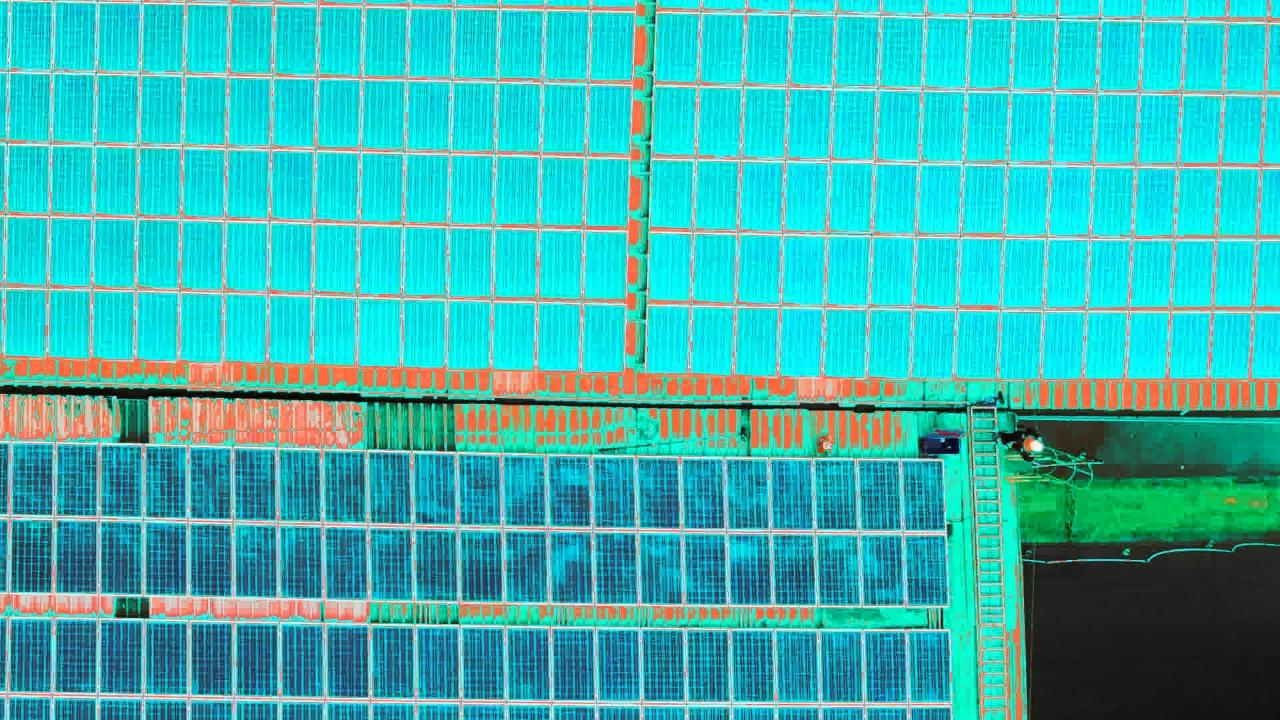dirty: (646, 4, 1280, 380), (4, 4, 627, 373)
semi: (5, 442, 944, 605), (6, 615, 946, 711)
